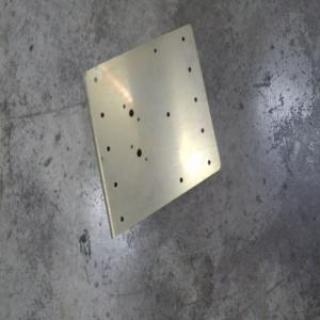MetalSheettrack_idkeyframe: (79, 19, 220, 242)
